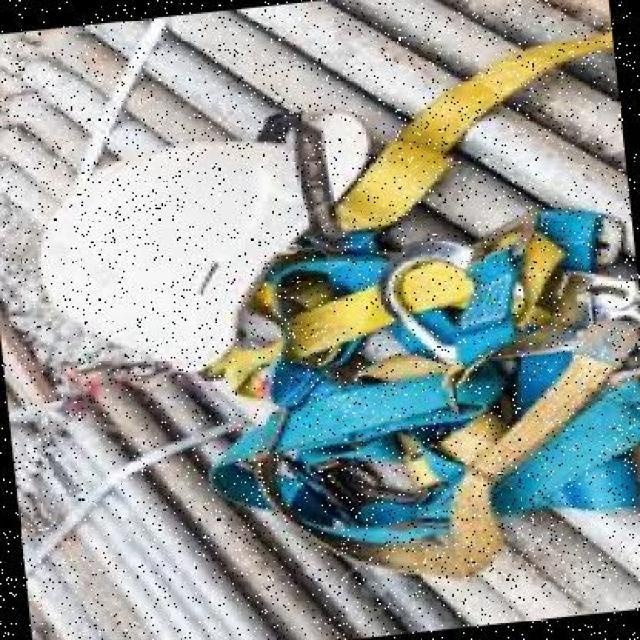Arnes_seguridad: (29, 24, 640, 618)
